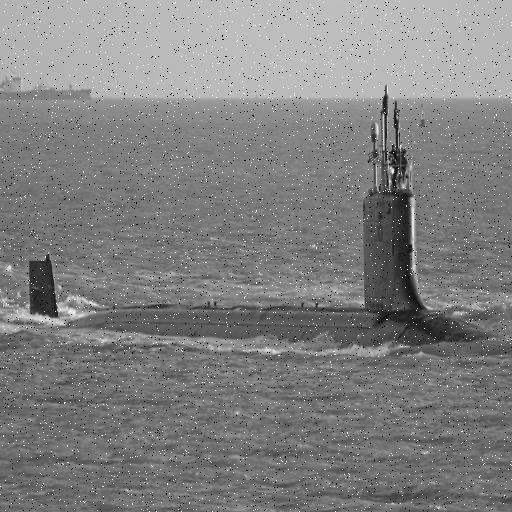submarine: (27, 191, 508, 354)
